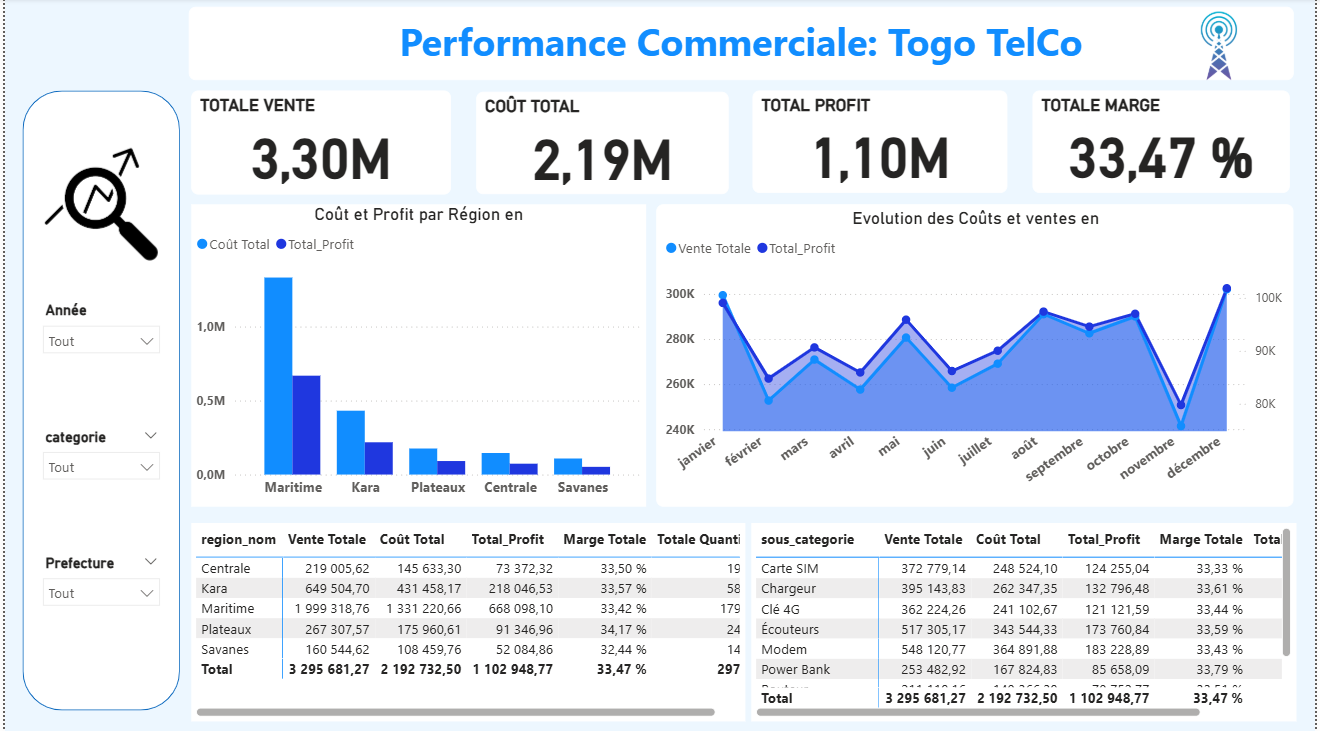

The page's visual inventory and layout, read from the dashboard file:
{"tool":"powerbi","page":{"name":"Accueil","canvas":[1300,730],"ordinal":0},"visuals":[{"type":"card","title":"TOTALE VENTE","fields":{"Values":["Table_Mesures.Total_Vente"]},"box":[184.7,91.5,257.9,102.9],"z":0},{"type":"card","title":"TOTALE MARGE","fields":{"Values":["Table_Mesures.Marge Totale"]},"box":[1019.1,91.5,255.4,101.7],"z":1000},{"type":"card","title":"COÛT TOTAL","fields":{"Values":["Table_Mesures.Coût Total"]},"box":[467,92.7,250.4,101.7],"z":2000},{"type":"card","title":"TOTAL PROFIT","fields":{"Values":["Table_Mesures.Total_Profit"]},"box":[741.8,91.5,252.9,101.7],"z":3000},{"type":"areaChart","fields":{"Category":["Dates.Date.Variation.Hiérarchie de dates.Mois"],"Y":["Table_Mesures.Vente Totale"],"Y2":["Table_Mesures.Total_Profit"]},"box":[645.9,204.6,632.3,300],"z":4000},{"type":"clusteredColumnChart","fields":{"Category":["regions.region_nom"],"Y":["Table_Mesures.Coût Total","Table_Mesures.Total_Profit"]},"box":[184.7,204.6,451.3,300],"z":5000},{"type":"pivotTable","fields":{"Rows":["prefectures.region_nom"],"Values":["Table_Mesures.Vente Totale","Table_Mesures.Coût Total","Table_Mesures.Total_Profit","Table_Mesures.Marge Totale","Table_Mesures.Totale Quantité"]},"box":[184.7,520.7,549.2,197.1],"z":6000},{"type":"pivotTable","fields":{"Values":["Table_Mesures.Vente Totale","Table_Mesures.Coût Total","Table_Mesures.Total_Profit","Table_Mesures.Marge Totale","Table_Mesures.Totale Quantité"],"Rows":["produits.sous_categorie"]},"box":[740.2,520.7,540.6,197.1],"z":7000},{"type":"group","id":"g1","title":"Groupe 2","box":[17.4,91.7,156.2,614.9],"z":8000},{"type":"shape","box":[17.4,91.7,156.2,614.9],"z":8000,"group":"g1"},{"type":"textbox","box":[182.3,8.7,1096,73.1],"z":9000,"group":"g2"},{"type":"image","box":[1146.9,8.7,114.1,78],"z":10000,"group":"g2"},{"type":"group","id":"g2","title":"Groupe 3","box":[182.3,8.7,1096,78],"z":10001},{"type":"slicer","fields":{"Values":["Dates.Année"]},"box":[27.3,296.3,136.4,94.2],"z":12500,"group":"g3"},{"type":"slicer","fields":{"Values":["produits.categorie"]},"box":[27.3,421.5,136.4,94.2],"z":13000,"group":"g3"},{"type":"slicer","fields":{"Values":["prefectures.prefecture_nom"]},"box":[27.3,546.7,136.4,94.2],"z":13500,"group":"g3"},{"type":"image","box":[34.7,143.8,121.5,121.5],"z":14000,"group":"g3"},{"type":"group","id":"g3","title":"Groupe 1","box":[27.3,143.8,136.4,497.2],"z":14001,"group":"g1"}]}

Visuals, with their boxes in screenshot pixels (x1, y1, x2, y2), scaled from the page's 1300x730 canvas onto the 1320x731 screenshot:
"TOTALE VENTE" card: bbox=[188, 92, 449, 195]
"TOTALE MARGE" card: bbox=[1035, 92, 1294, 193]
"COÛT TOTAL" card: bbox=[474, 93, 728, 195]
"TOTAL PROFIT" card: bbox=[753, 92, 1010, 193]
areaChart - Dates.Date.Variation.Hiérarchie de dates.Mois x Table_Mesures.Vente Totale: bbox=[656, 205, 1298, 505]
clusteredColumnChart - regions.region_nom x Table_Mesures.Coût Total: bbox=[188, 205, 646, 505]
pivotTable - prefectures.region_nom x Table_Mesures.Vente Totale: bbox=[188, 521, 745, 719]
pivotTable - Table_Mesures.Vente Totale x Table_Mesures.Coût Total: bbox=[752, 521, 1301, 719]
"Groupe 2" group: bbox=[18, 92, 176, 708]
shape: bbox=[18, 92, 176, 708]
textbox: bbox=[185, 9, 1298, 82]
image: bbox=[1165, 9, 1280, 87]
"Groupe 3" group: bbox=[185, 9, 1298, 87]
slicer - Dates.Année: bbox=[28, 297, 166, 391]
slicer - produits.categorie: bbox=[28, 422, 166, 516]
slicer - prefectures.prefecture_nom: bbox=[28, 547, 166, 642]
image: bbox=[35, 144, 159, 266]
"Groupe 1" group: bbox=[28, 144, 166, 642]
